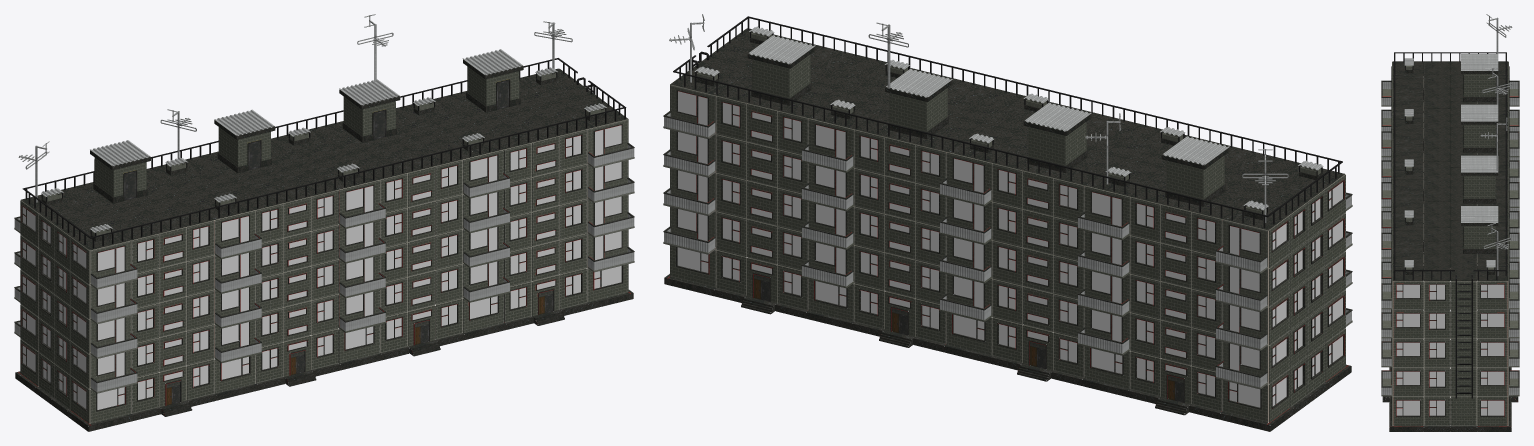
The model's file is panelka.fbx.
The picture shows the model from 3 angles, left to right: view 1: azimuth 30°, elevation 25°; view 2: azimuth 150°, elevation 25°; view 3: azimuth 270°, elevation 25°; orthographic projection. The views are drawn at different scales.
Visible parts, largest first — view 1: mesh, mesh_selection_selection.011, mesh_selection_selection.007, mesh_selection.001, mesh_selection_selection.010; view 2: mesh, mesh_selection_selection.007, mesh_selection_selection.010, mesh_selection_selection.011, mesh_selection.001; view 3: mesh, mesh_selection.001, mesh_selection_selection.010, mesh_selection_selection.007, mesh_selection_selection.011, mesh_selection_selection.005, mesh_selection_selection.001, mesh_selection_selection.003, mesh_selection_selection, mesh_selection_selection.012, mesh_selection_selection.014.
Part boxes in pixels (x1=…): mesh: x1=14, y1=58, x2=634, y2=431; mesh_selection_selection.011: x1=90, y1=140, x2=150, y2=203; mesh_selection_selection.007: x1=462, y1=49, x2=523, y2=112; mesh_selection.001: x1=339, y1=79, x2=400, y2=142; mesh_selection_selection.010: x1=214, y1=109, x2=275, y2=173; mesh: x1=663, y1=16, x2=1352, y2=431; mesh_selection_selection.007: x1=747, y1=35, x2=815, y2=105; mesh_selection_selection.010: x1=1023, y1=102, x2=1091, y2=172; mesh_selection_selection.011: x1=1161, y1=136, x2=1229, y2=206; mesh_selection.001: x1=885, y1=68, x2=952, y2=139; mesh: x1=1381, y1=52, x2=1519, y2=431; mesh_selection.001: x1=1461, y1=155, x2=1498, y2=203; mesh_selection_selection.010: x1=1461, y1=104, x2=1498, y2=152; mesh_selection_selection.007: x1=1461, y1=206, x2=1498, y2=253; mesh_selection_selection.011: x1=1461, y1=54, x2=1498, y2=101; mesh_selection_selection.005: x1=1483, y1=223, x2=1511, y2=275; mesh_selection_selection.001: x1=1482, y1=67, x2=1512, y2=104; mesh_selection_selection.003: x1=1486, y1=14, x2=1512, y2=53; mesh_selection_selection: x1=1480, y1=117, x2=1507, y2=170; mesh_selection_selection.012: x1=1404, y1=58, x2=1413, y2=73; mesh_selection_selection.014: x1=1404, y1=159, x2=1413, y2=174.
Bounding box in the file's own units: 4977 × 2419 × 1300.
